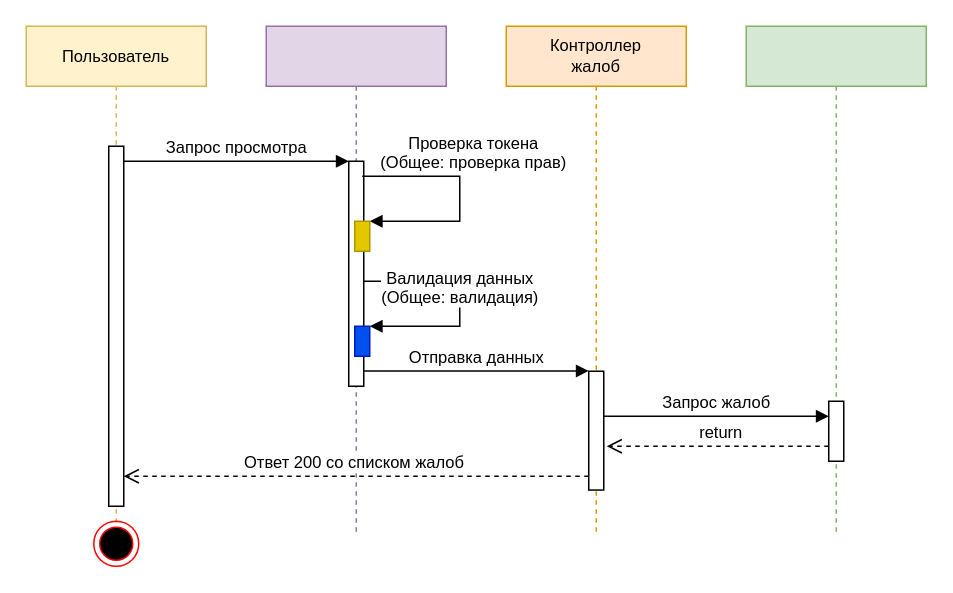
Image size: 953x593. Some labels were removed from this diagram. Here are the shapes that lost their labels. From the top down, the box of each, then its label:
(265, 25, 446, 536): Система
(745, 25, 926, 536): База данных
